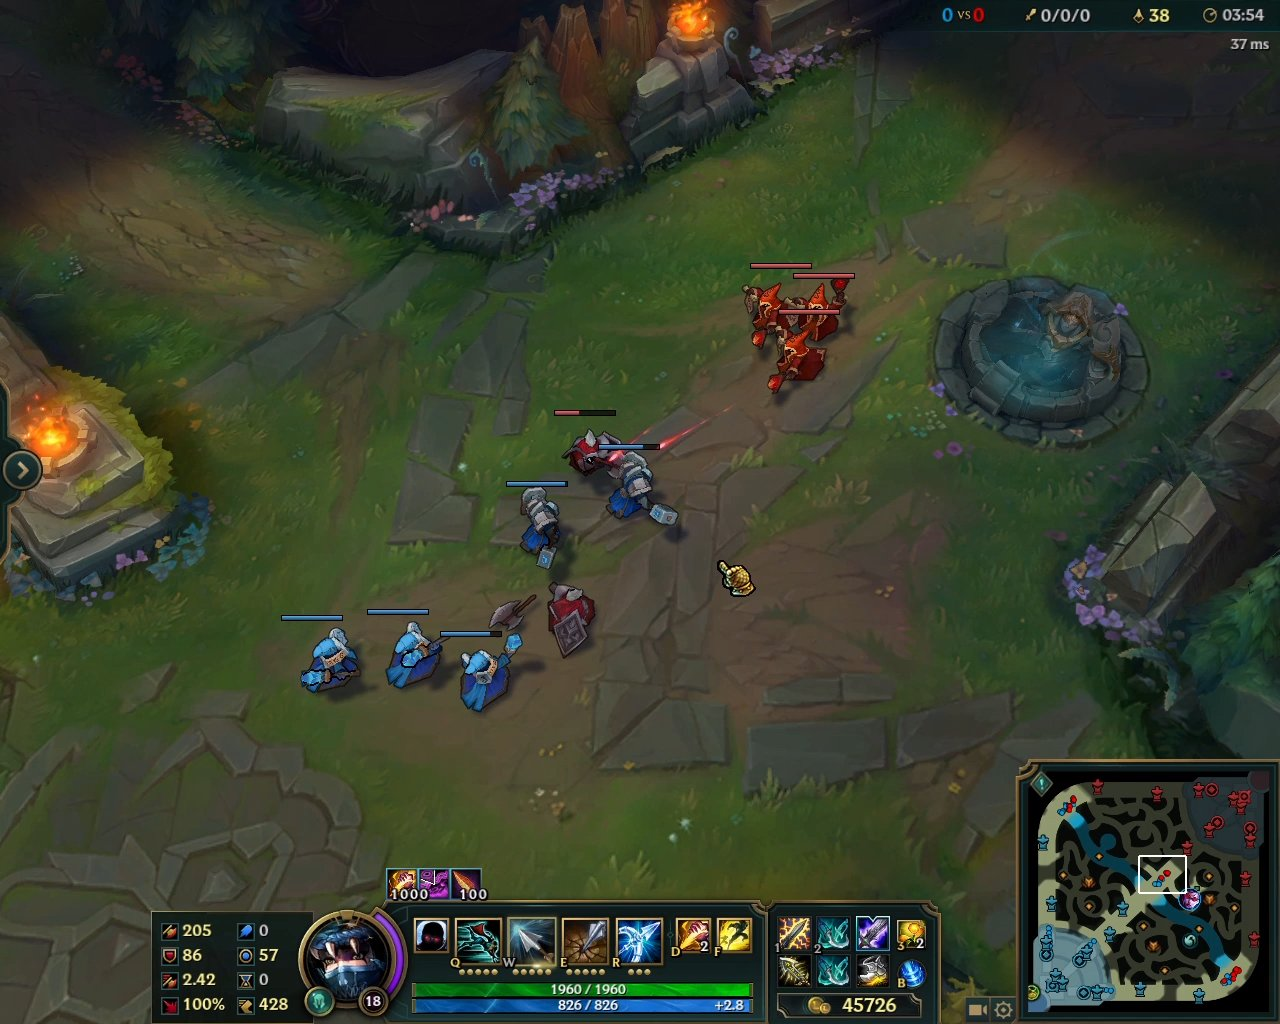EnemyMinion: (762, 309, 839, 396), (740, 262, 815, 350), (554, 406, 625, 485), (784, 270, 855, 344)
